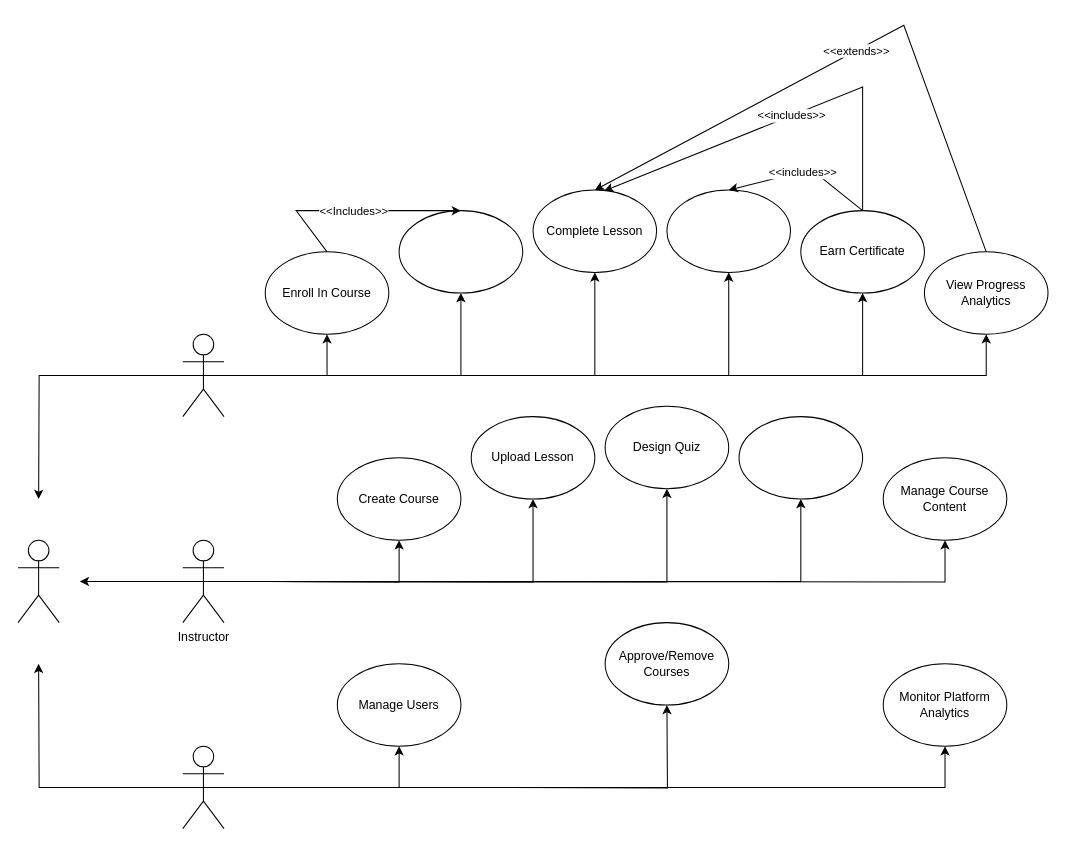
This 1066x868 diagram has some shape labels left out. Each missing label, with the centre of its shape:
Admin: point 203,787
Browse Courses: point 460,251
Student: point 203,375
Take Quiz: point 728,230
User: point 38,581
View Course Analytics: point 800,457
